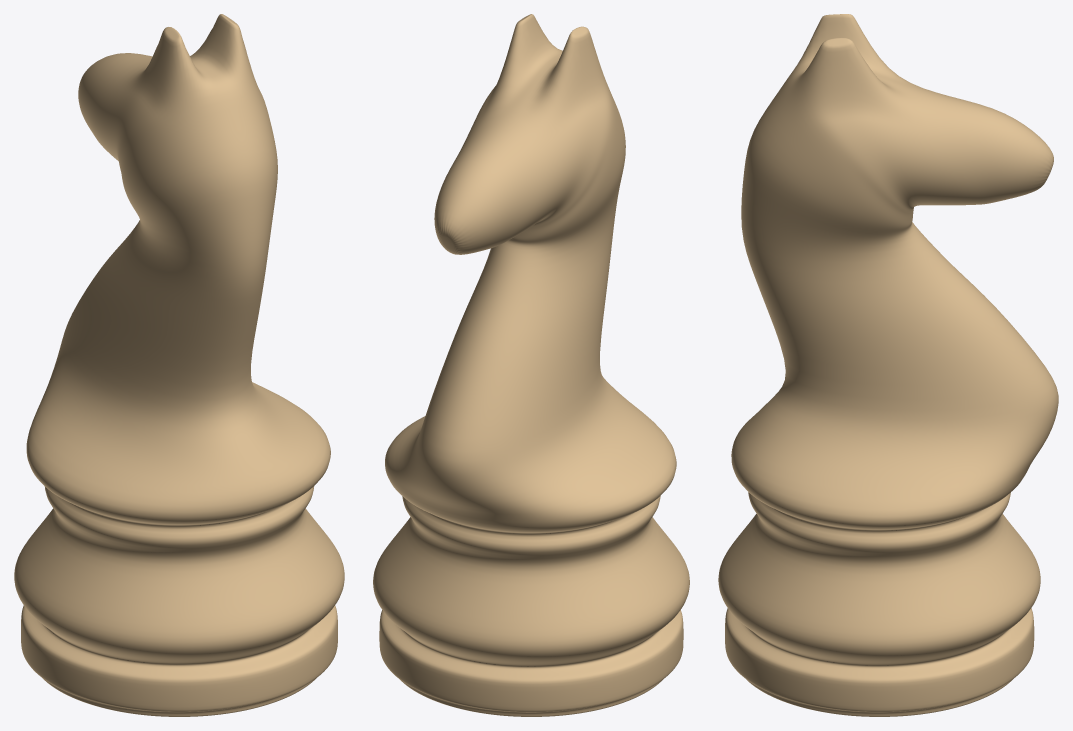
The model's file is Caballo.fbx.
The picture shows the model from 3 angles, left to right: view 1: azimuth 30°, elevation 25°; view 2: azimuth 150°, elevation 25°; view 3: azimuth 270°, elevation 25°; orthographic projection. The views are drawn at different scales.
Parts seen in each view (by area): view 1: Caballo.001; view 2: Caballo.001; view 3: Caballo.001.
Boxes of the visible parts, <box> form: Caballo.001: <box>14,14,344,716</box>; Caballo.001: <box>373,14,689,716</box>; Caballo.001: <box>718,14,1058,716</box>.
Bounding box in the file's own units: 70.38 × 152 × 74.27.
